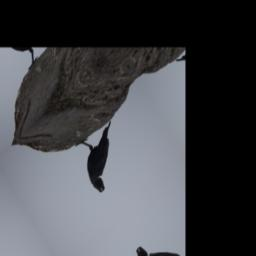Crow: (70, 116, 136, 197)
